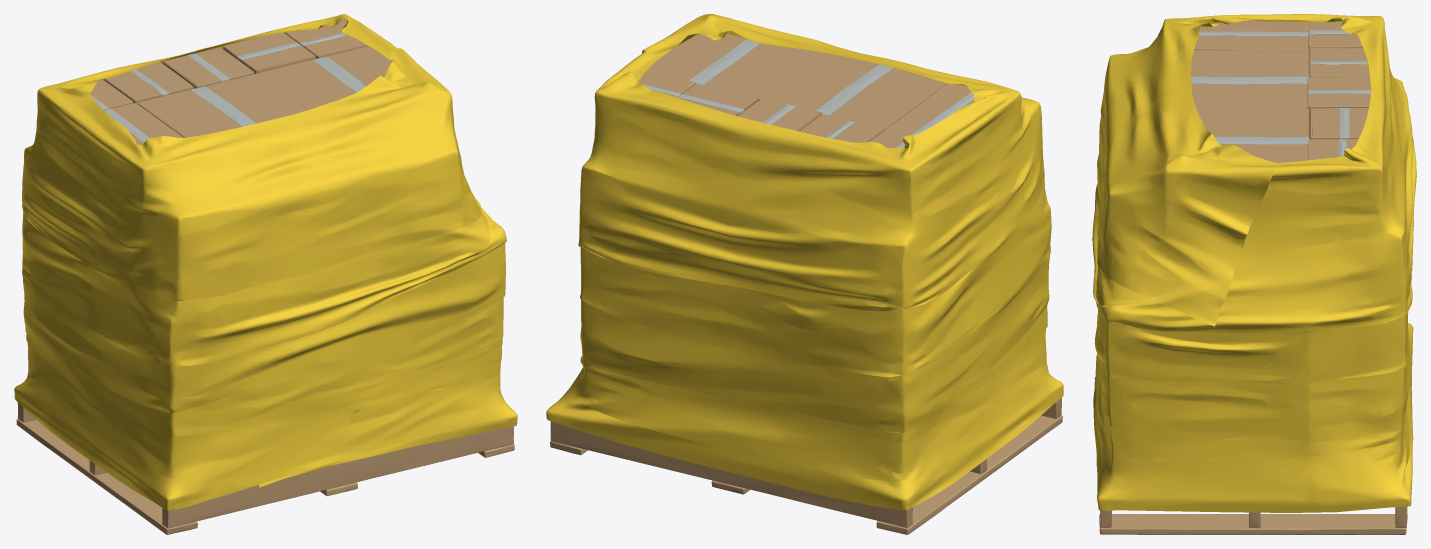
The model's file is pallet_assembly_yellow_a06.glb.
3 renders of one model, left to right at view 1: azimuth 30°, elevation 25°; view 2: azimuth 150°, elevation 25°; view 3: azimuth 270°, elevation 25°, orthographic. The views are drawn at different scales.
Size of the model in its own units: 1.22 by 1.15 by 0.9341.
